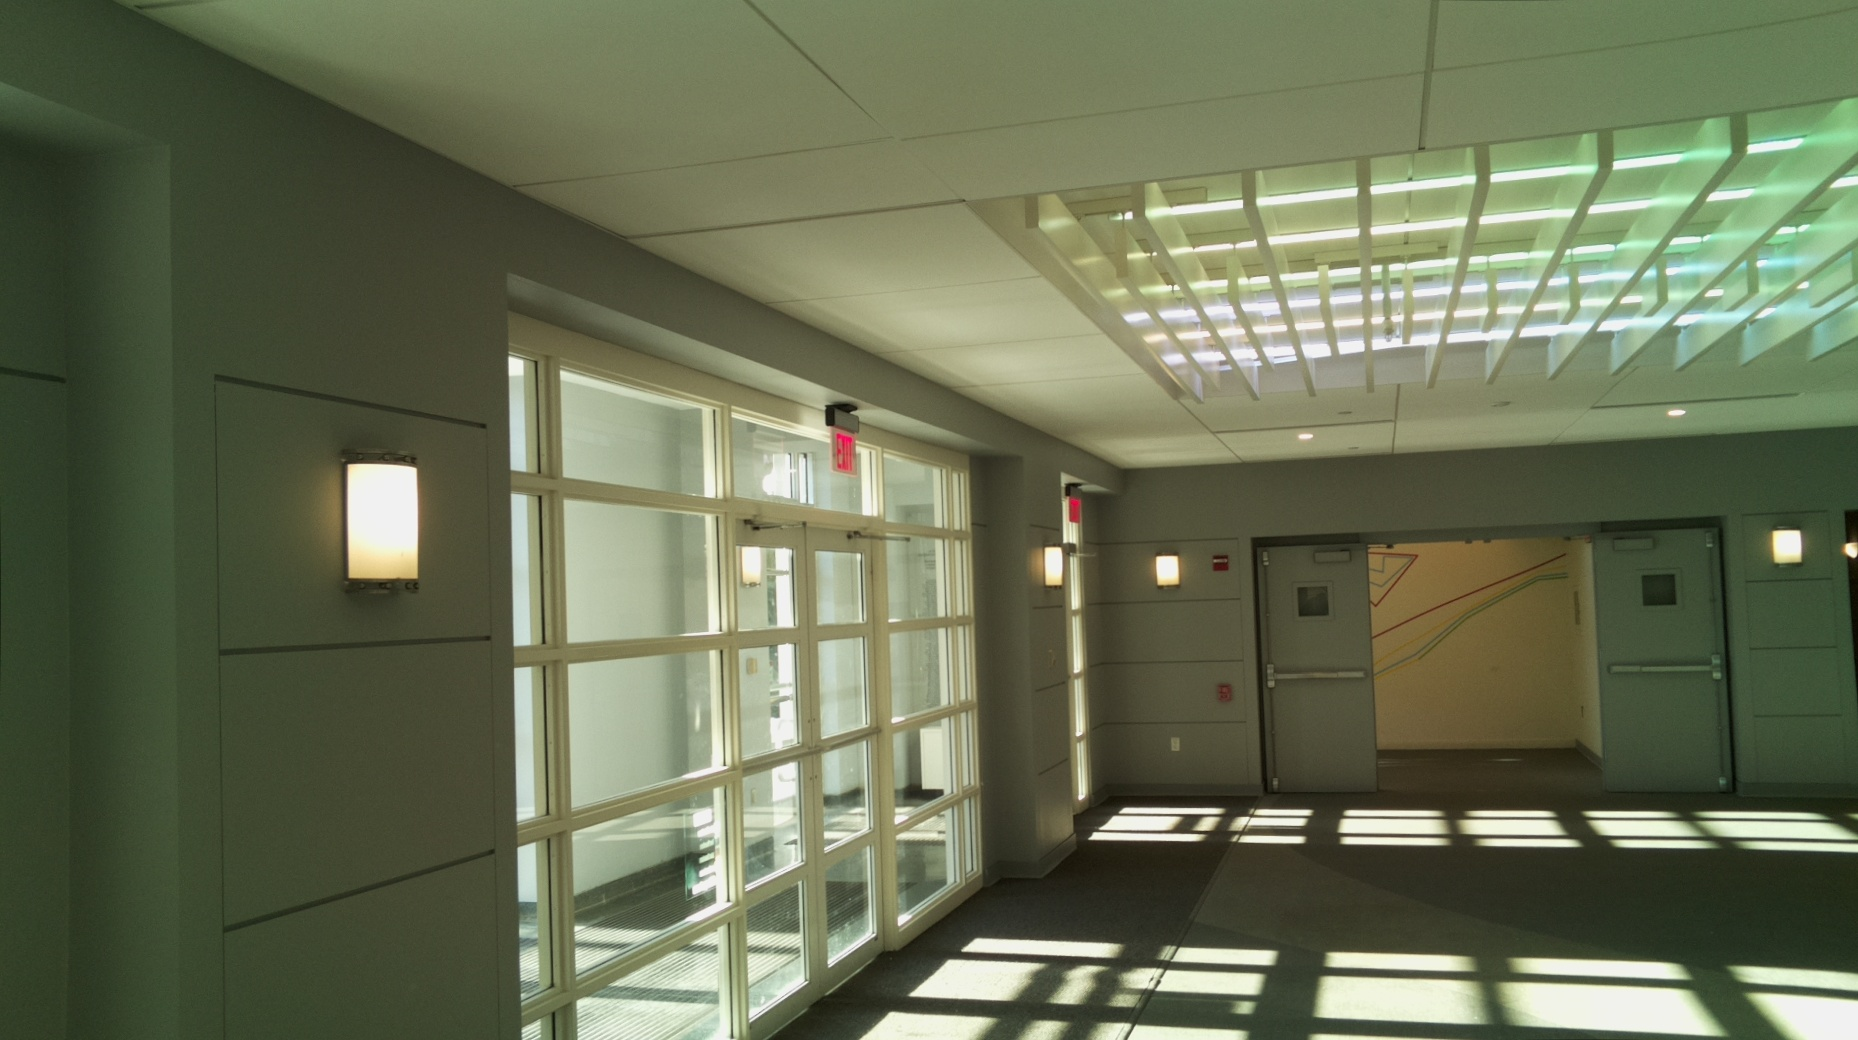exit sign: (829, 426, 859, 477), (1067, 496, 1083, 524)
